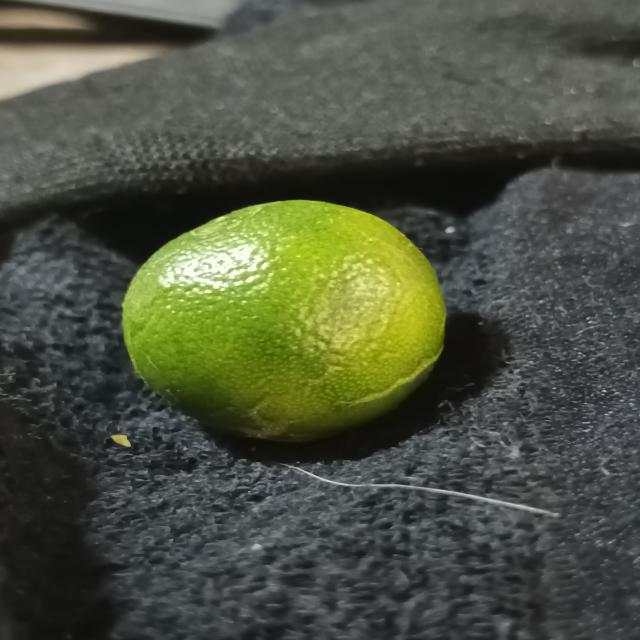thrips: (120, 206, 461, 446)
